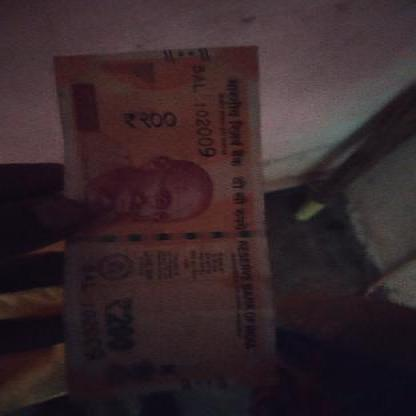New200Front: (53, 51, 276, 387)
